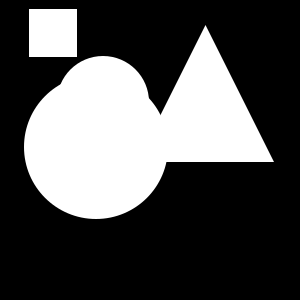circle: (29, 9, 77, 57)
rectangle: (24, 75, 168, 219), (57, 56, 149, 148)
triangle: (137, 25, 274, 162)
